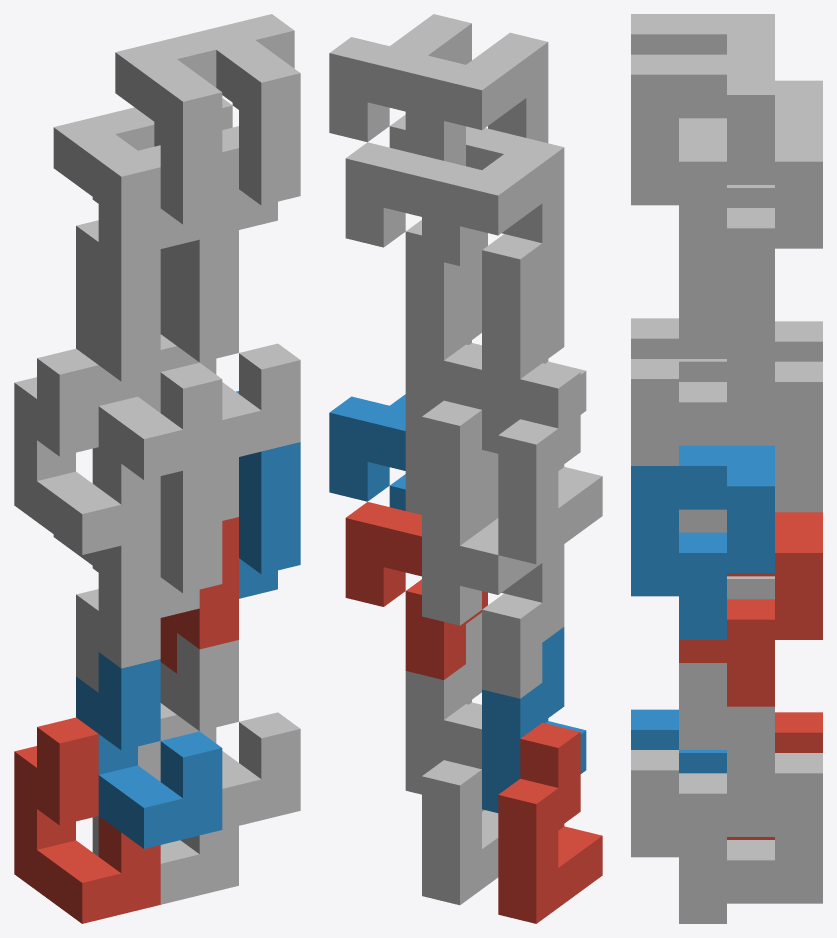
File: tiling.obj
3 renders of one model, left to right at view 1: azimuth 30°, elevation 25°; view 2: azimuth 150°, elevation 25°; view 3: azimuth 270°, elevation 25°, orthographic. The views are drawn at different scales.
Visible parts, largest first — view 1: copy_1_domain_1, copy_1_domain_3, copy_1_domain_2, copy_1_domain_4, copy_2_domain_3, copy_2_domain_4, copy_2_domain_8, copy_1_domain_6, copy_1_domain_8, copy_2_domain_1, copy_2_domain_2, copy_2_domain_6 (+4 smaller); view 2: copy_2_domain_3, copy_2_domain_1, copy_1_domain_1, copy_1_domain_3, copy_2_domain_4, copy_2_domain_7, copy_1_domain_5, copy_1_domain_7, copy_2_domain_5, copy_2_domain_8, copy_2_domain_6, copy_1_domain_4 (+4 smaller); view 3: copy_2_domain_8, copy_2_domain_6, copy_1_domain_6, copy_1_domain_8, copy_1_domain_5, copy_2_domain_7, copy_2_domain_5, copy_1_domain_7, copy_2_domain_4, copy_1_domain_2, copy_2_domain_3, copy_1_domain_4 (+3 smaller).
Boxes of the visible parts, x1,y1,x2,y2 form: copy_1_domain_1: (14, 717, 160, 923); copy_1_domain_3: (14, 348, 160, 554); copy_1_domain_2: (76, 652, 222, 848); copy_1_domain_4: (76, 283, 222, 479); copy_2_domain_3: (53, 108, 160, 323); copy_2_domain_4: (115, 33, 222, 248); copy_2_domain_8: (194, 14, 300, 229); copy_1_domain_6: (160, 633, 300, 829); copy_1_domain_8: (160, 264, 300, 460); copy_2_domain_1: (53, 534, 160, 692); copy_2_domain_2: (160, 461, 222, 617); copy_2_domain_6: (236, 391, 300, 598); copy_2_domain_3: (422, 138, 564, 339); copy_2_domain_1: (422, 518, 564, 698); copy_1_domain_1: (498, 722, 602, 923); copy_1_domain_3: (498, 363, 602, 564); copy_2_domain_4: (405, 32, 548, 233); copy_2_domain_7: (345, 126, 487, 320); copy_1_domain_5: (422, 704, 498, 905); copy_1_domain_7: (422, 344, 498, 545); copy_2_domain_5: (345, 502, 487, 679); copy_2_domain_8: (329, 14, 471, 151); copy_2_domain_6: (329, 394, 405, 510); copy_1_domain_4: (482, 267, 586, 453); copy_2_domain_8: (631, 54, 774, 248); copy_2_domain_6: (631, 445, 774, 639); copy_1_domain_6: (631, 663, 774, 857); copy_1_domain_8: (631, 272, 774, 465); copy_1_domain_5: (679, 753, 822, 923); copy_2_domain_7: (679, 121, 822, 315); copy_2_domain_5: (679, 512, 822, 706); copy_1_domain_7: (679, 361, 822, 532); copy_2_domain_4: (631, 14, 774, 121); copy_1_domain_2: (631, 709, 726, 773); copy_2_domain_3: (727, 80, 822, 207); copy_1_domain_4: (631, 318, 726, 381).
Size of the model in its own units: 6 by 20 by 4.
